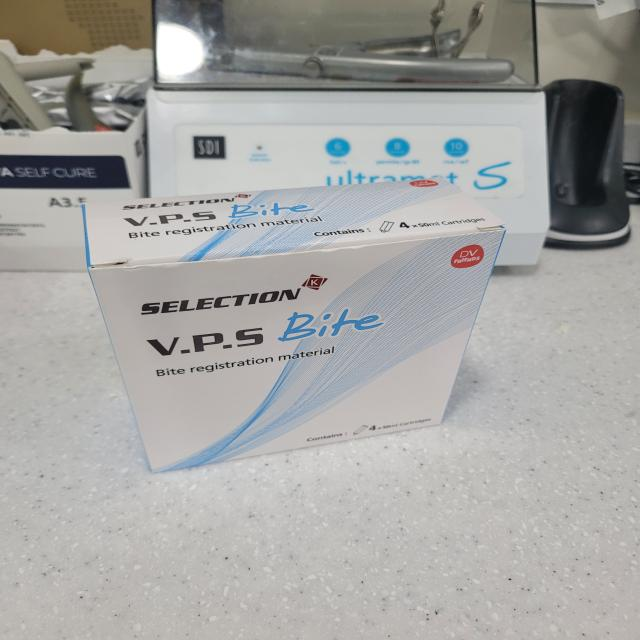impression: (66, 178, 502, 474)
